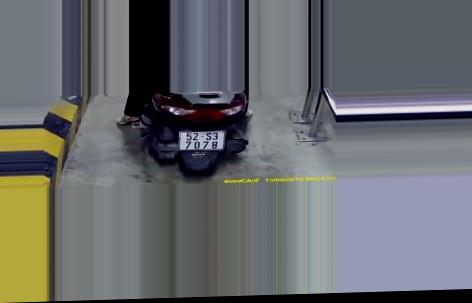License_Plate: (175, 125, 228, 156)
